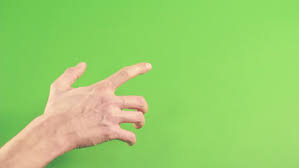hand: (32, 43, 183, 163)
